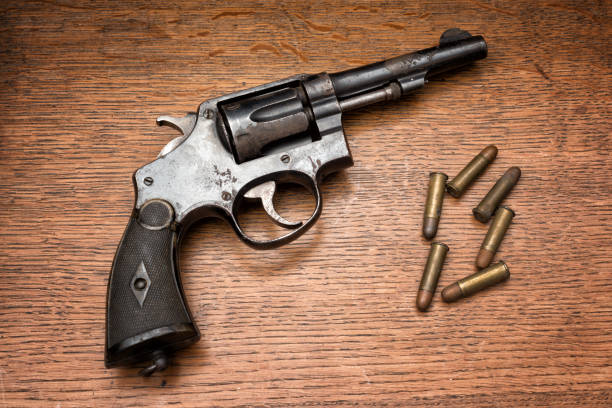gun: (103, 25, 491, 380)
